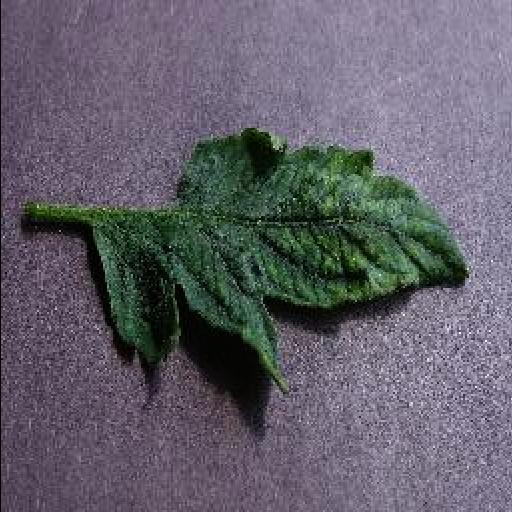disease_tomato: (90, 128, 466, 398)
